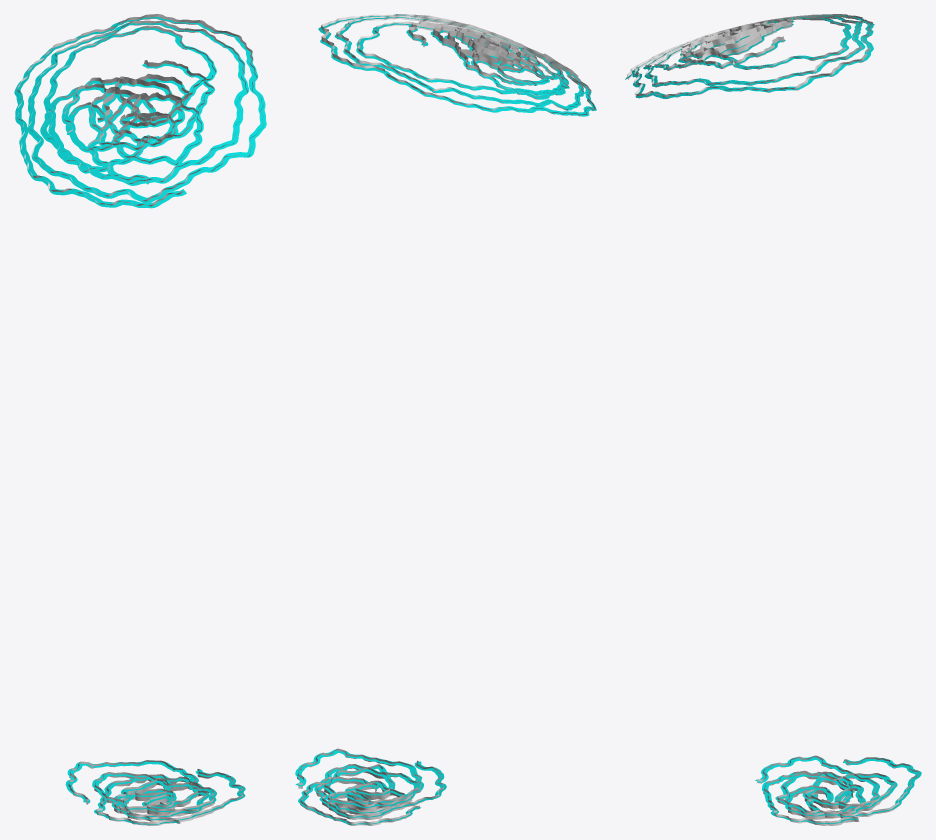
Rendered from SM_JupiterAurora.fbx.
The picture shows the model from 3 angles, left to right: view 1: azimuth 30°, elevation 25°; view 2: azimuth 150°, elevation 25°; view 3: azimuth 270°, elevation 25°; orthographic projection. The views are drawn at different scales.
Visible parts, largest first — view 1: SM_JupiterAurora; view 2: SM_JupiterAurora; view 3: SM_JupiterAurora.
Part boxes in pixels (x1=…): SM_JupiterAurora: x1=14, y1=14, x2=266, y2=825; SM_JupiterAurora: x1=295, y1=14, x2=596, y2=825; SM_JupiterAurora: x1=625, y1=14, x2=921, y2=825.
Size of the model in its own units: 0.6825 by 2.03 by 0.7252.
